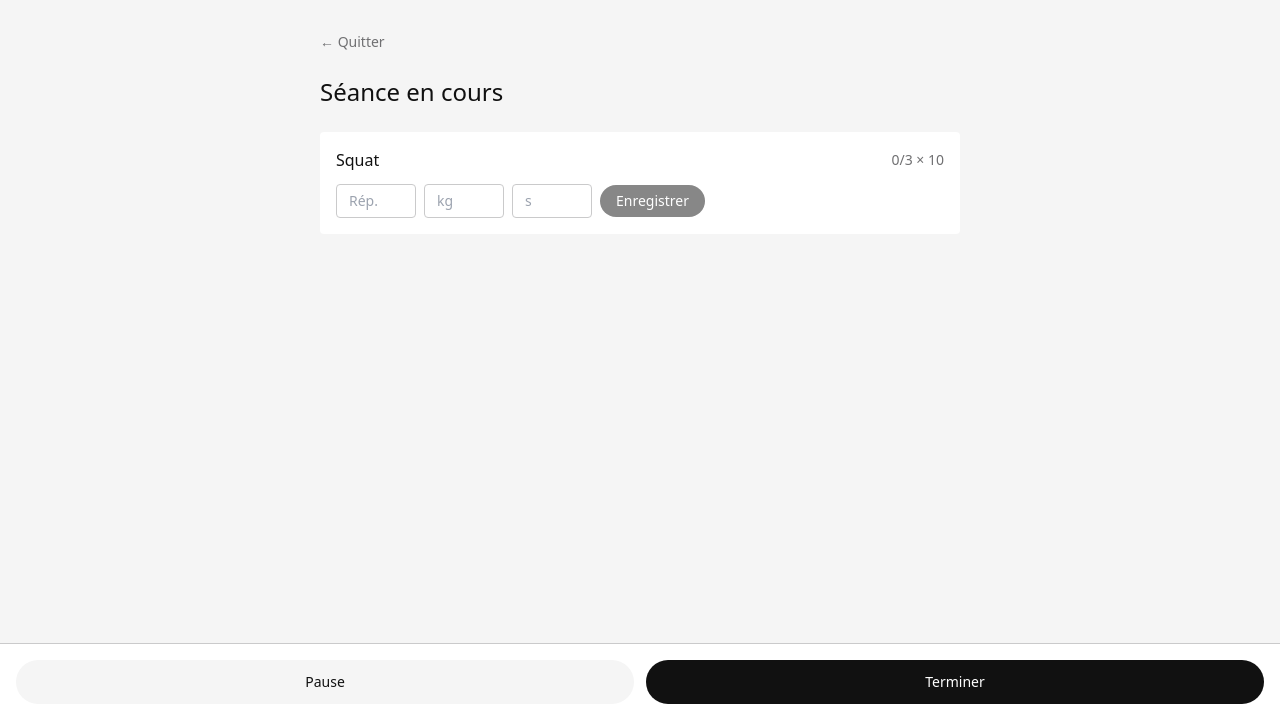
Test: ExecutionPage › Finish button opens RPE modal
Expected: the text "Squat" is shown, [336,148,379,172]
Click the button "Terminer": {"x": 955, "y": 682} [646,660,1264,704]
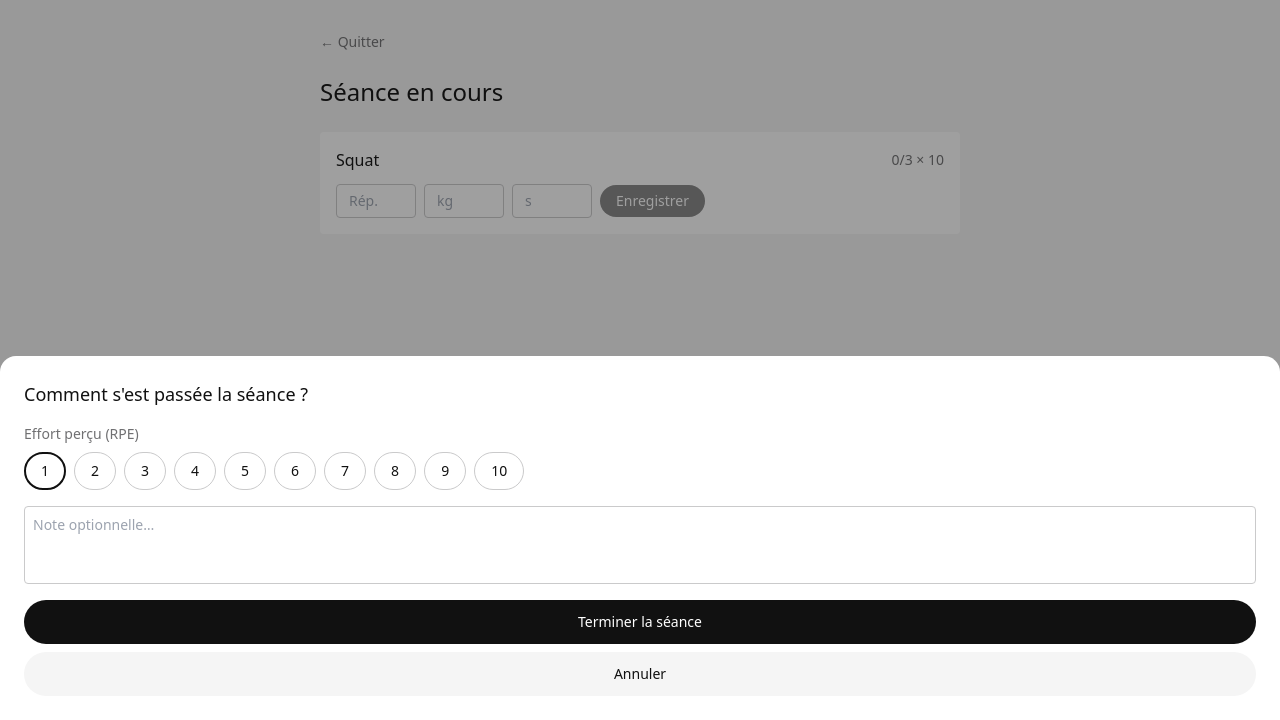
Now the button "Terminer la séance" is shown, box [24,600,1256,644]
